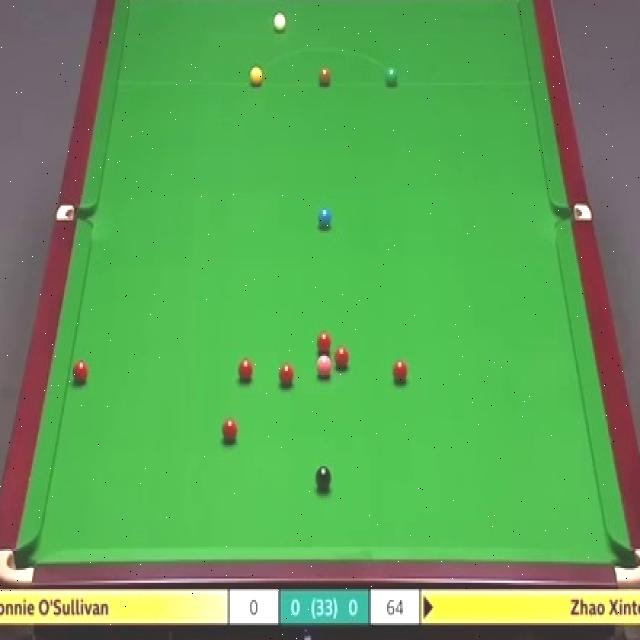black-ball: (316, 466, 333, 490)
blue-ball: (316, 206, 332, 229)
brown-ball: (318, 67, 332, 86)
green-ball: (384, 66, 398, 88)
pink-ball: (316, 354, 334, 380)
red-ball: (278, 362, 296, 388), (220, 417, 238, 442), (392, 361, 409, 386), (72, 361, 90, 383), (238, 357, 253, 383), (334, 346, 349, 371), (317, 331, 332, 354)
white-ball: (274, 8, 290, 30)
yellow-ball: (249, 64, 263, 86)
